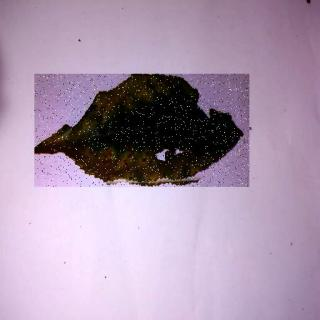Anthracnose: (36, 75, 251, 188)
